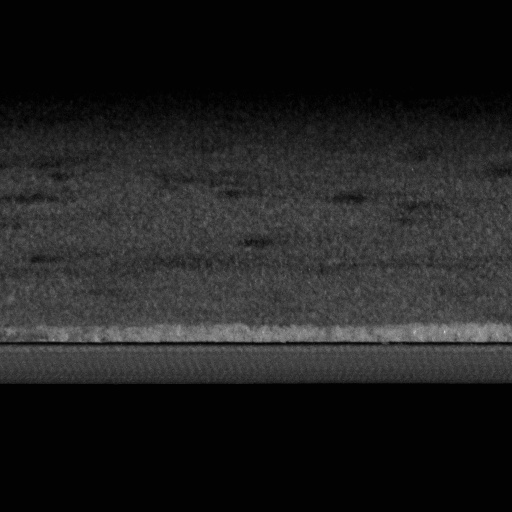jiaofeng: (0, 339, 511, 353)
